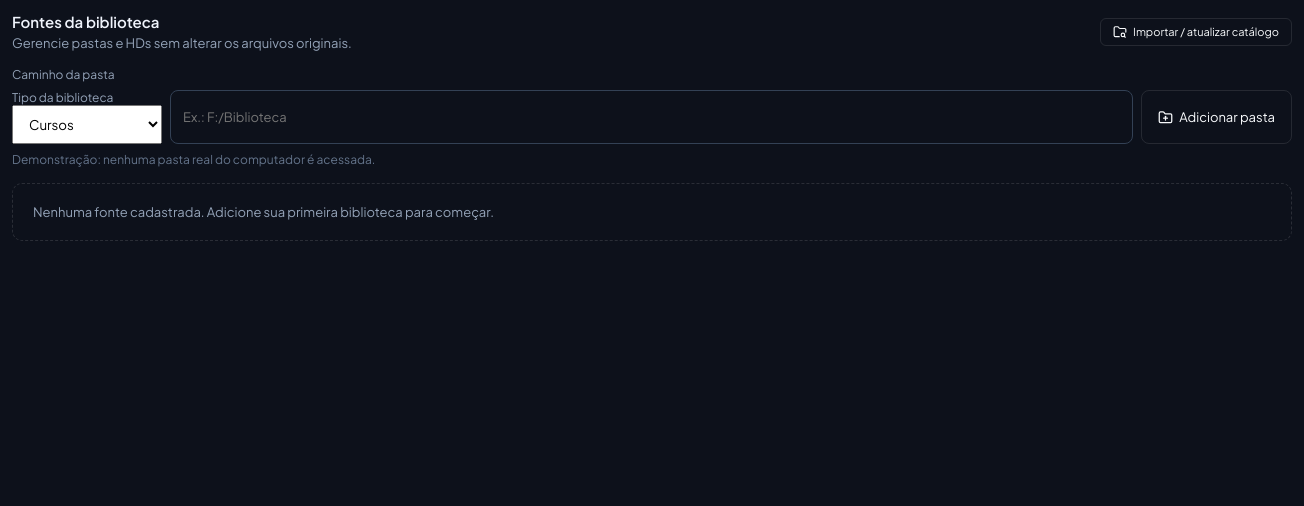
Scenario: LibrarySourcesPanel — seleção de pasta pelo SO (desktop) › inicia a varredura após a confirmação do backend quando ele normaliza o caminho
Type "/Volumes/Study" into the field labelled "Caminho da pasta" at (652, 117), box top-left (170, 90), bottom-right (1133, 144)
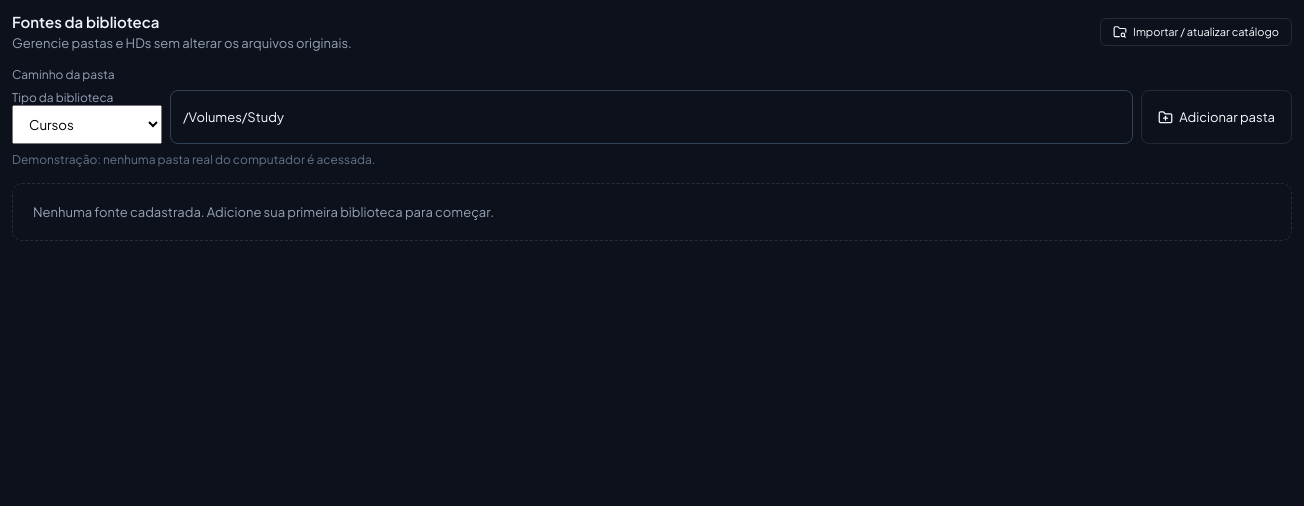
Click the button "Adicionar pasta" at (1217, 117), box top-left (1141, 90), bottom-right (1292, 144)
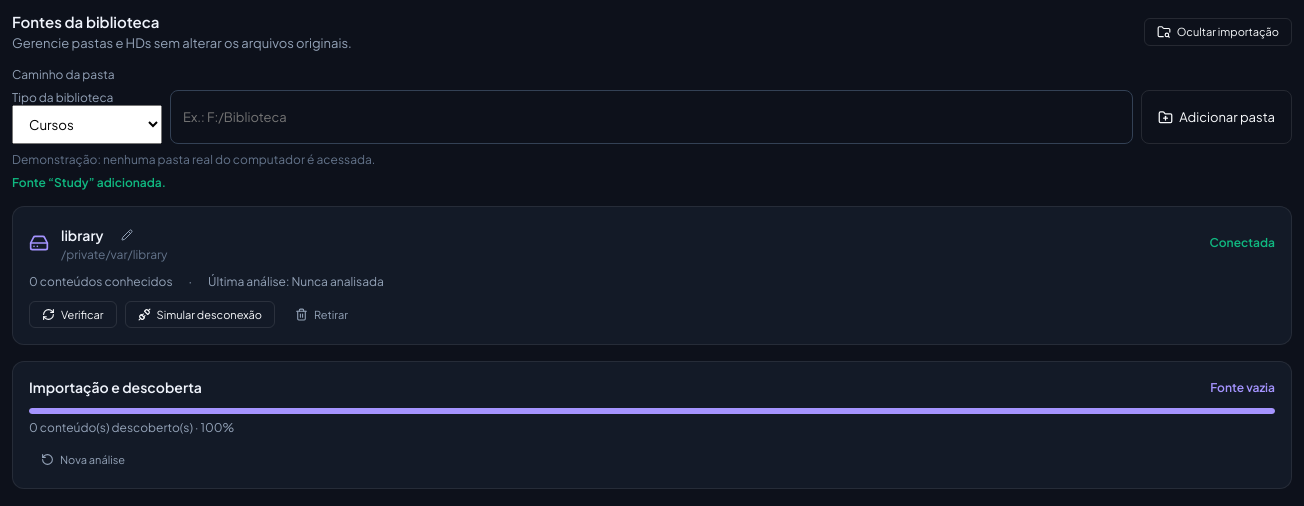
Result: the text with test id "import-phase" reads "Fonte vazia" at top-left (1210, 380), bottom-right (1275, 394)
